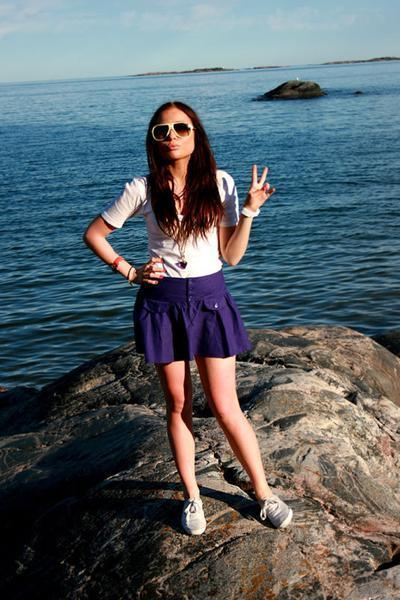shirt: (108, 170, 251, 275)
shoe: (184, 475, 284, 534)
skirt: (123, 252, 253, 370)
